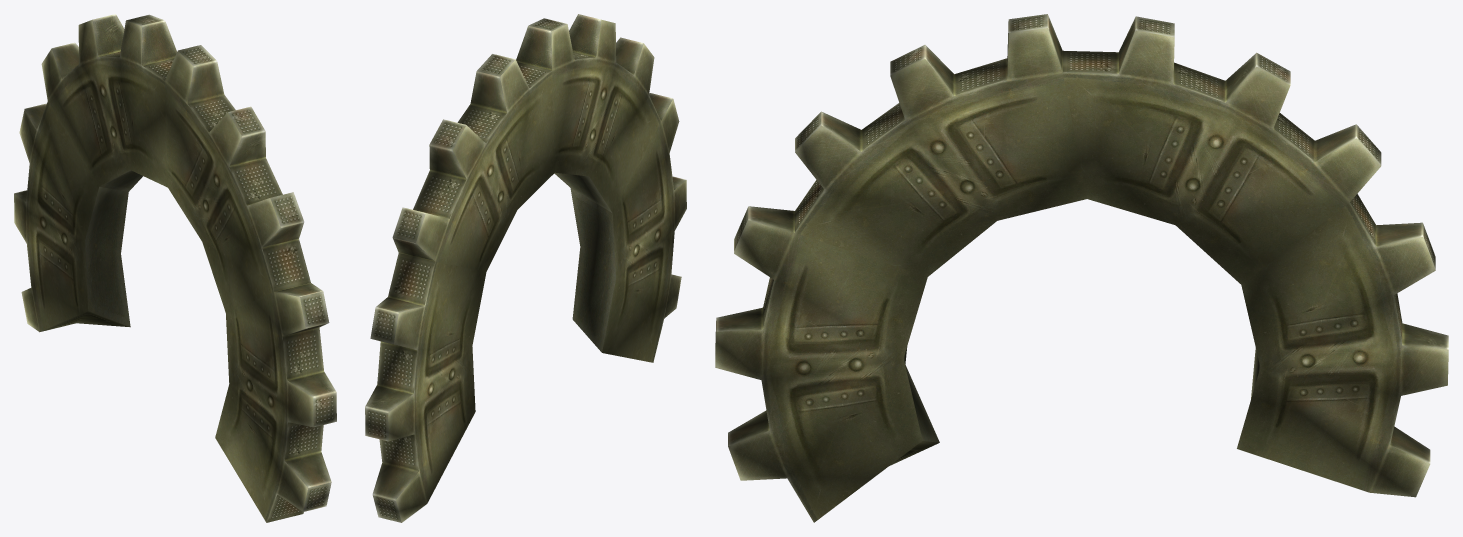
File: obj_macoprgrge01-02.glb
3 renders of one model, left to right at view 1: azimuth 30°, elevation 25°; view 2: azimuth 150°, elevation 25°; view 3: azimuth 270°, elevation 25°, orthographic. The views are drawn at different scales.
Visible parts, largest first — view 1: part_0; view 2: part_0; view 3: part_0.
Boxes of the visible parts, x1,y1,x2,y2 form: part_0: (14,14,336,522); part_0: (365,14,686,522); part_0: (715,14,1448,522).
Bounding box in the file's own units: 4.11 × 42.8 × 57.96.
1 material, 1 textured.
